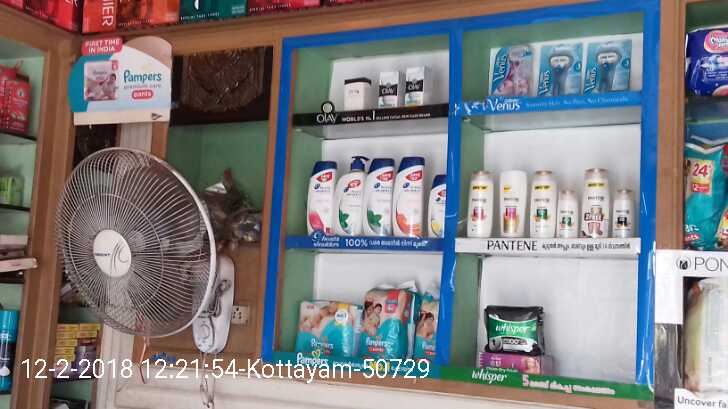venus: (585, 35, 628, 91), (492, 44, 534, 96), (536, 45, 578, 88)
